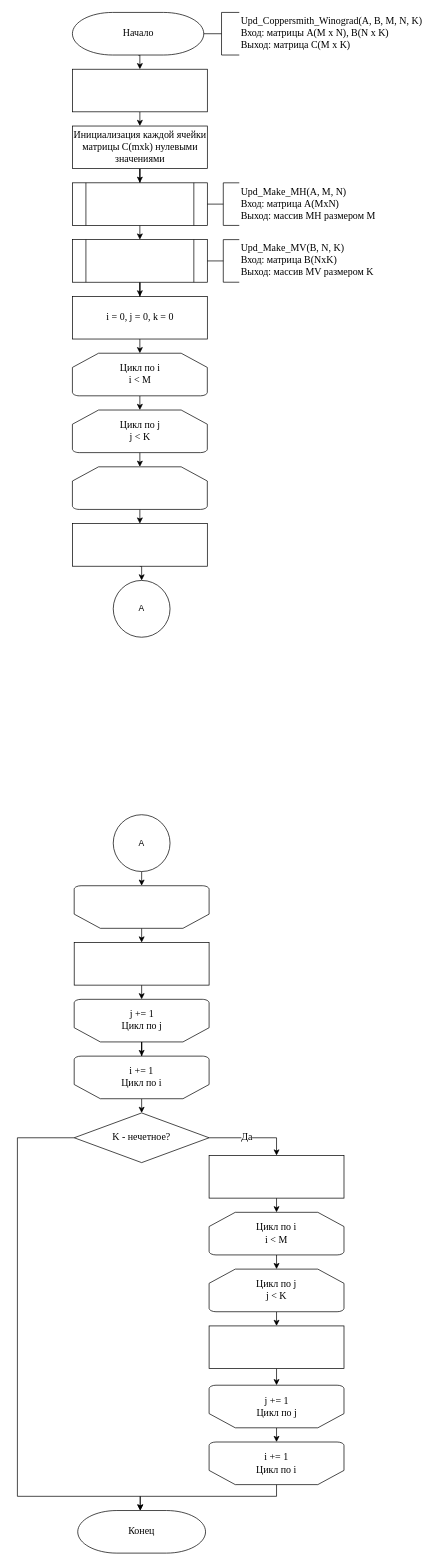
The diagram is 434 pixels wide and 1566 high, and some of its shapes have lost their labels. The shapes that lost their labels are listed below. From the top down, each one's centre as x and y in pixels, then its label:
the point at 139,90: Создание матрицы C(mxk)
the point at 139,203: Upd_Make_MH(A, M, N)
the point at 139,260: Upd_Make_MV(B, N, K)
the point at 139,487: Цикл по k k < N - 1
the point at 139,544: C[i][j] += (A[i][k] + B[i][k+1]) * (A[i][k+1] + B[i][k])
the point at 141,906: k += 2 Цикл по k
the point at 141,963: C[i][j] -= MH[i] + MV[j]
the point at 276,1176: i = 0, j = 0
the point at 276,1347: C[i][j] += A[i][N-1] * B[N-1][J]
